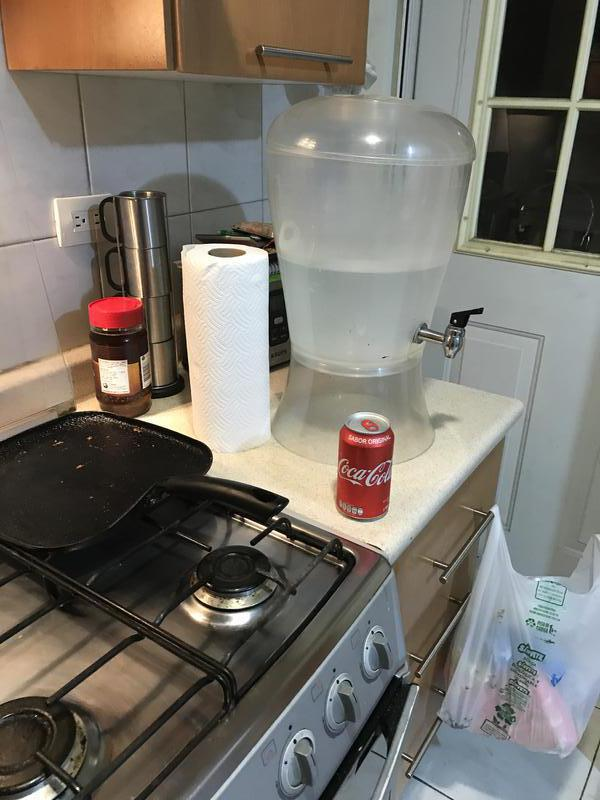coca_cola: (337, 412, 392, 520)
